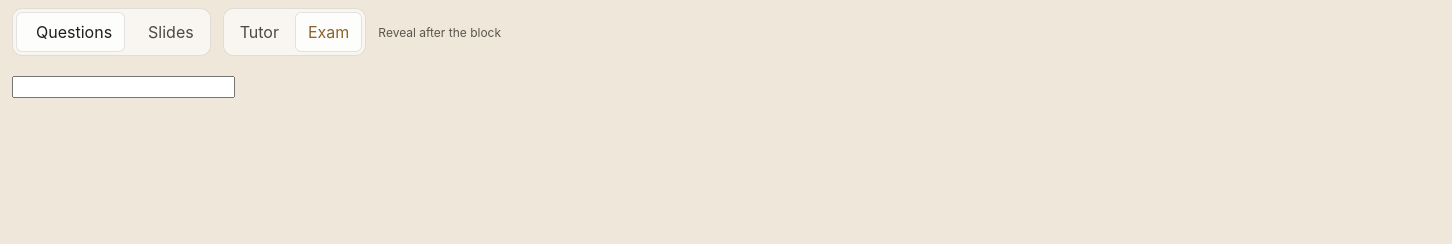
Test: question presentation › keeps the view usable and explains a failed preference write
This screenshot has width=1452, height=244.
Click the button "Slides": (167, 32) [128,12,207,52]
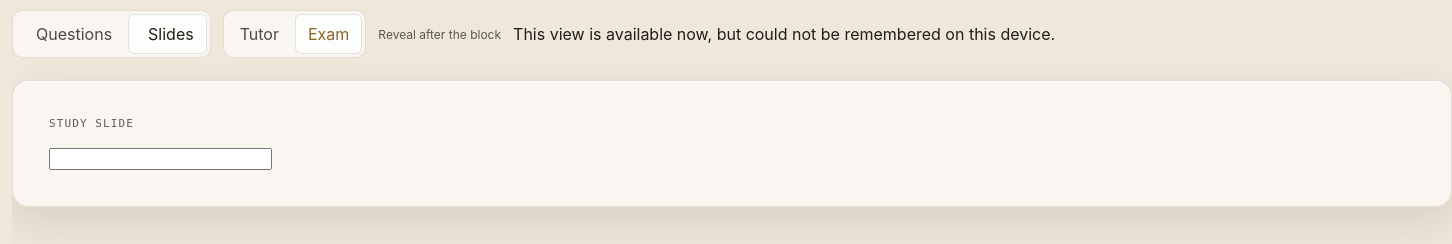
expect the message shows "could not be remembered": met, box [513,24,1055,44]
